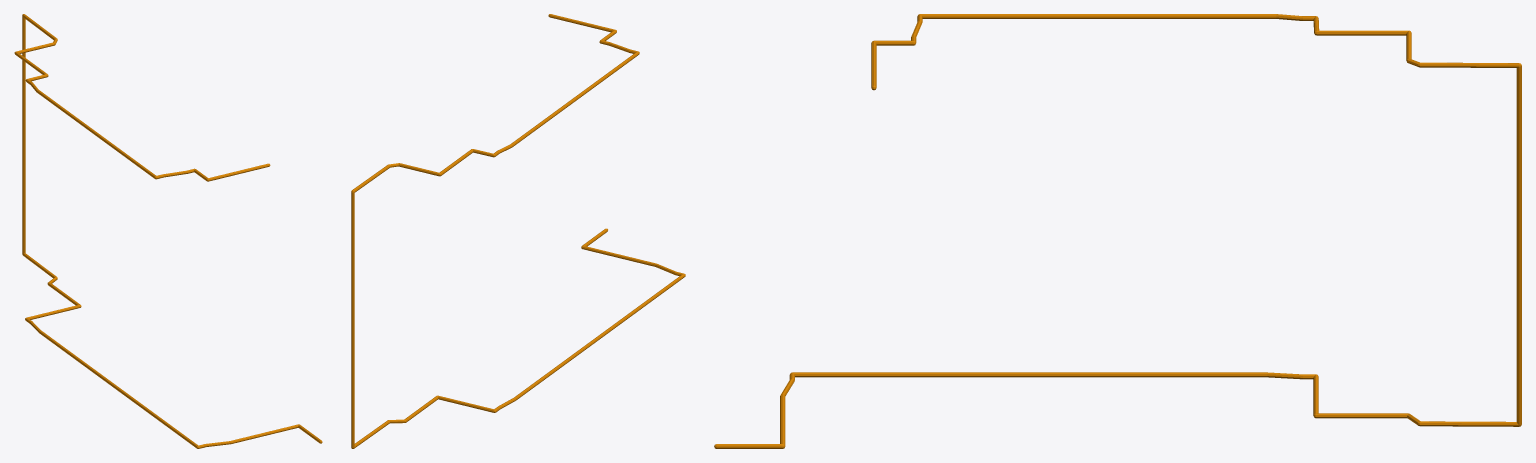
The picture shows the model from 3 angles, left to right: view 1: azimuth 30°, elevation 25°; view 2: azimuth 150°, elevation 25°; view 3: azimuth 270°, elevation 25°; orthographic projection. The views are drawn at different scales.
Bounding box in the file's own units: 663 × 1520 × 3061.
